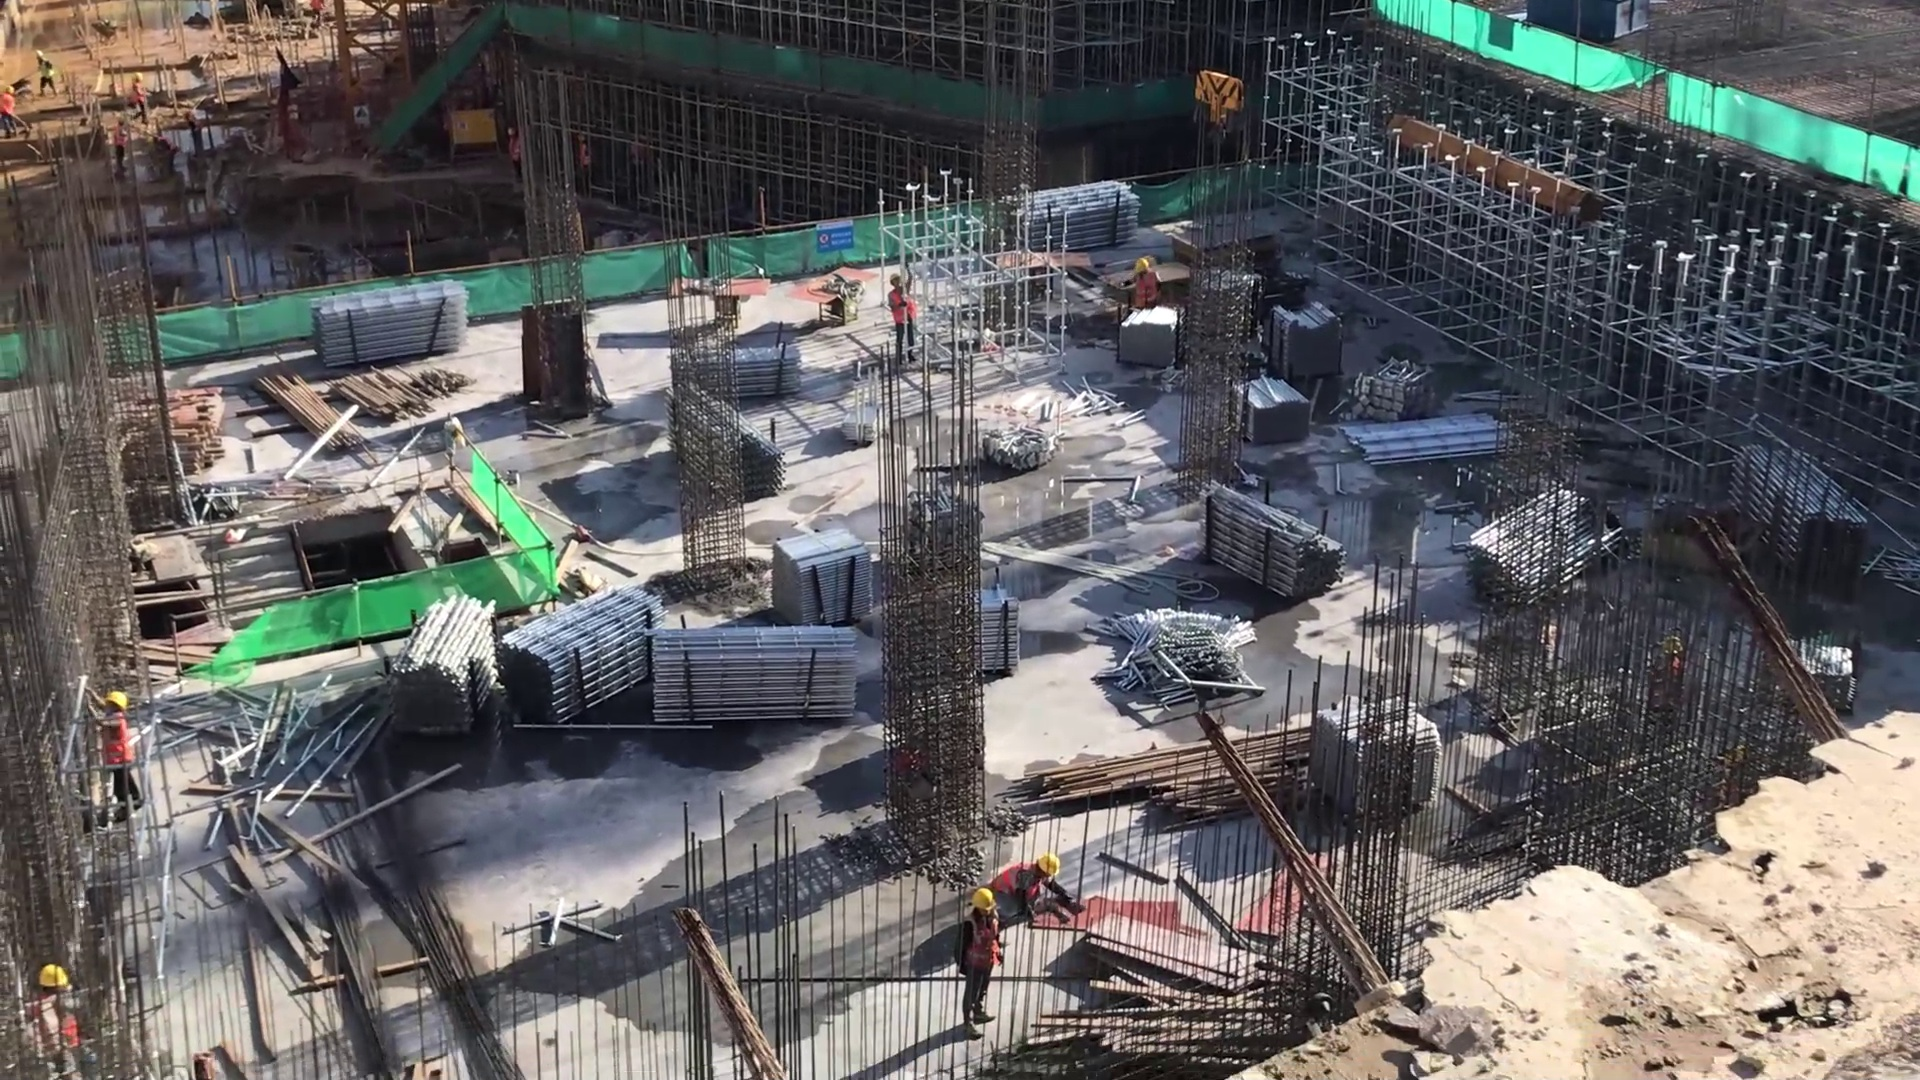cutter: (776, 259, 876, 331), (668, 270, 775, 330)
ebox: (443, 102, 503, 169)
helmet: (1035, 848, 1066, 884), (36, 963, 71, 990), (968, 886, 999, 917), (100, 688, 134, 716), (1126, 252, 1159, 279), (880, 267, 904, 290)
hook: (1184, 59, 1250, 167)
hopper: (1516, 1, 1653, 47)
person: (83, 679, 155, 819), (950, 884, 1007, 1035), (18, 958, 93, 1062), (991, 845, 1072, 925), (876, 264, 927, 370), (1123, 251, 1165, 322)
scaffold: (492, 572, 669, 741), (644, 615, 869, 739), (376, 581, 513, 741), (1189, 473, 1348, 604), (306, 262, 477, 378), (1002, 173, 1142, 264), (765, 523, 873, 628), (1229, 362, 1321, 457), (1266, 299, 1345, 389), (1103, 306, 1195, 381), (719, 341, 806, 406)
vest: (95, 712, 138, 771), (960, 916, 1002, 972), (42, 995, 82, 1049), (997, 860, 1042, 902), (1128, 272, 1162, 311), (888, 287, 920, 328)
